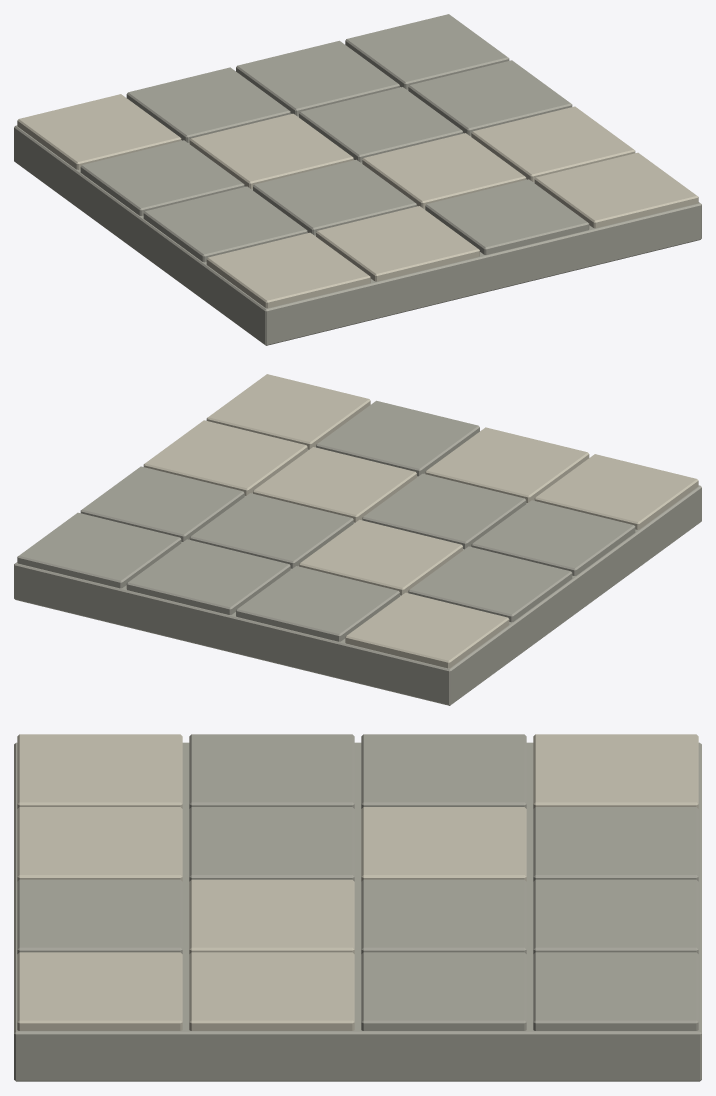
The model's file is floor_stone.glb.
3 renders of one model, top to bottom at view 1: azimuth 30°, elevation 25°; view 2: azimuth 150°, elevation 25°; view 3: azimuth 270°, elevation 25°, orthographic. The views are drawn at different scales.
Visible parts, largest first — view 1: TV_floor_stone; view 2: TV_floor_stone; view 3: TV_floor_stone.
Part boxes in pixels (x1=…): TV_floor_stone: x1=14, y1=14, x2=701, y2=345; TV_floor_stone: x1=14, y1=374, x2=701, y2=705; TV_floor_stone: x1=14, y1=734, x2=701, y2=1081.
Bounding box in the file's own units: 4 × 0.3825 × 4.
